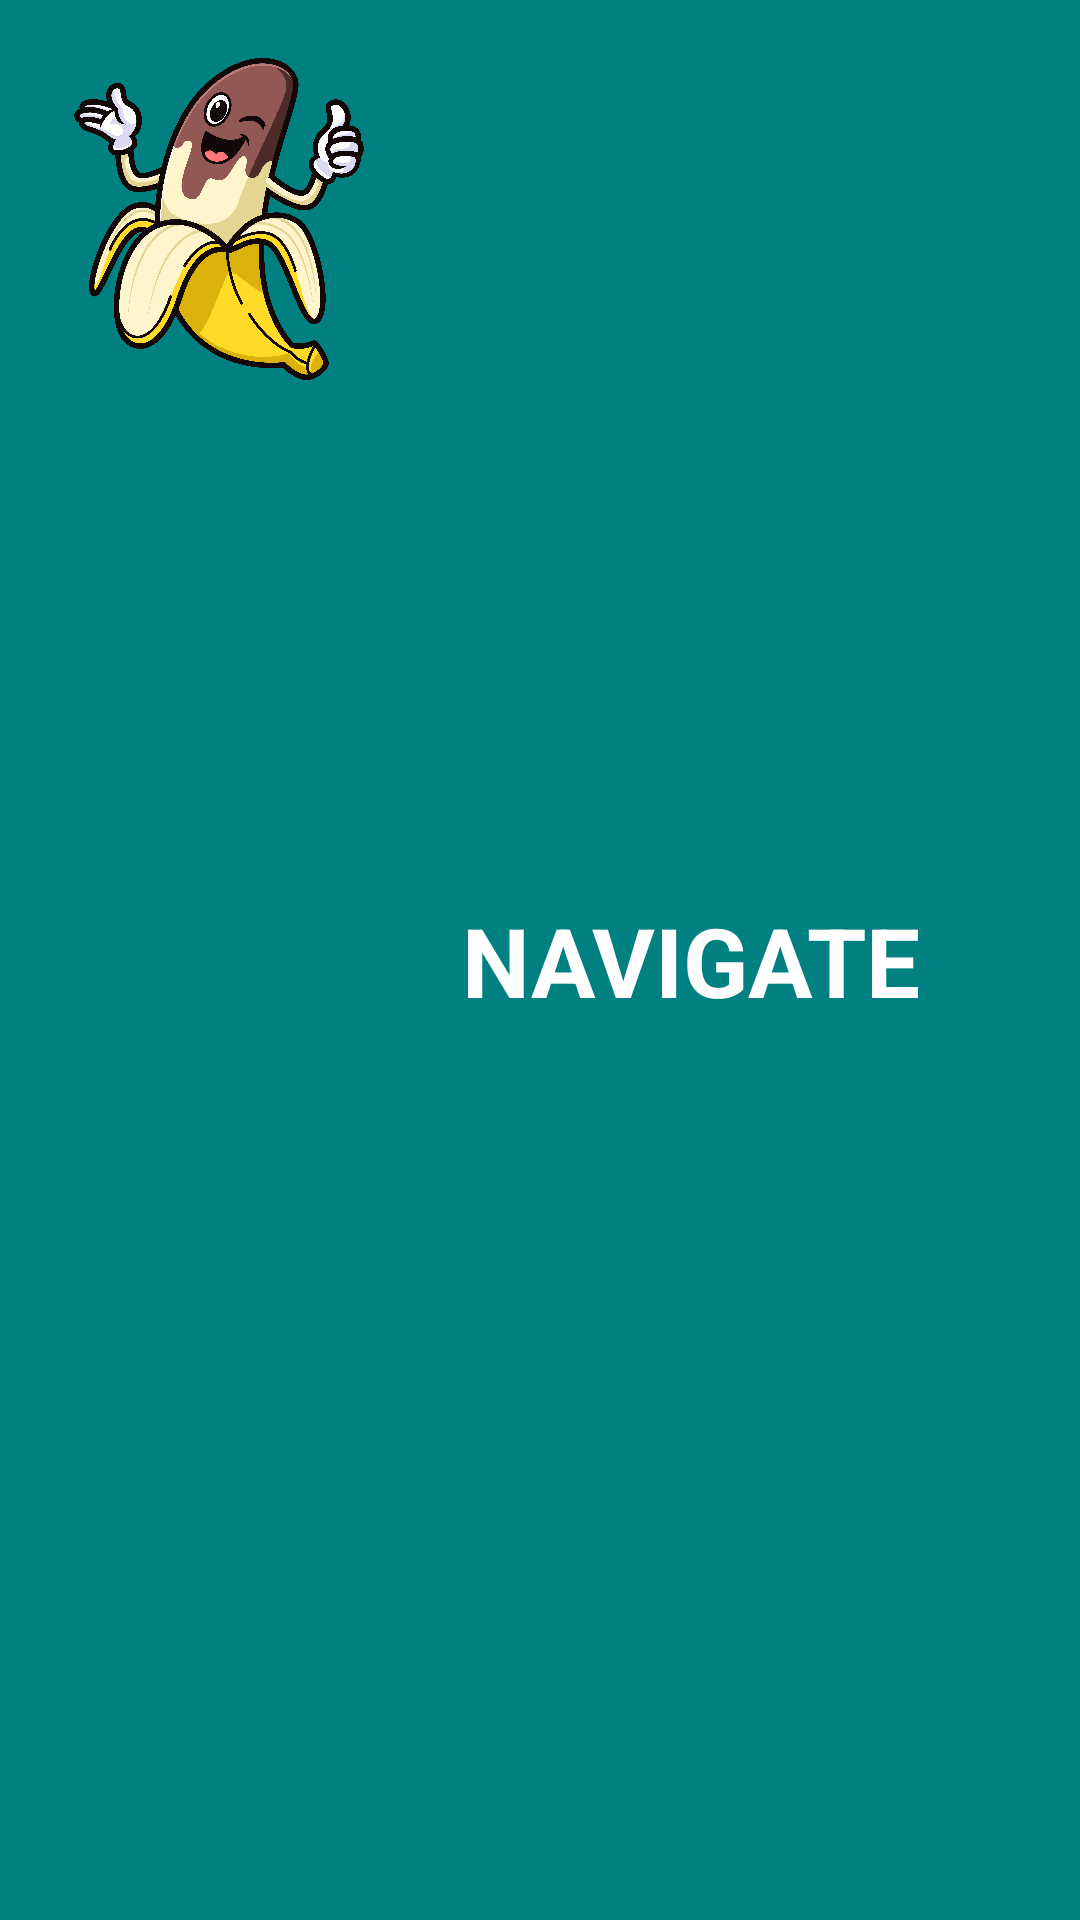

Screen size 1080×1920. Icon name, then its box in pixels as bbox(x1, y1, x2, y2):
pisang: bbox(74, 58, 364, 380)
